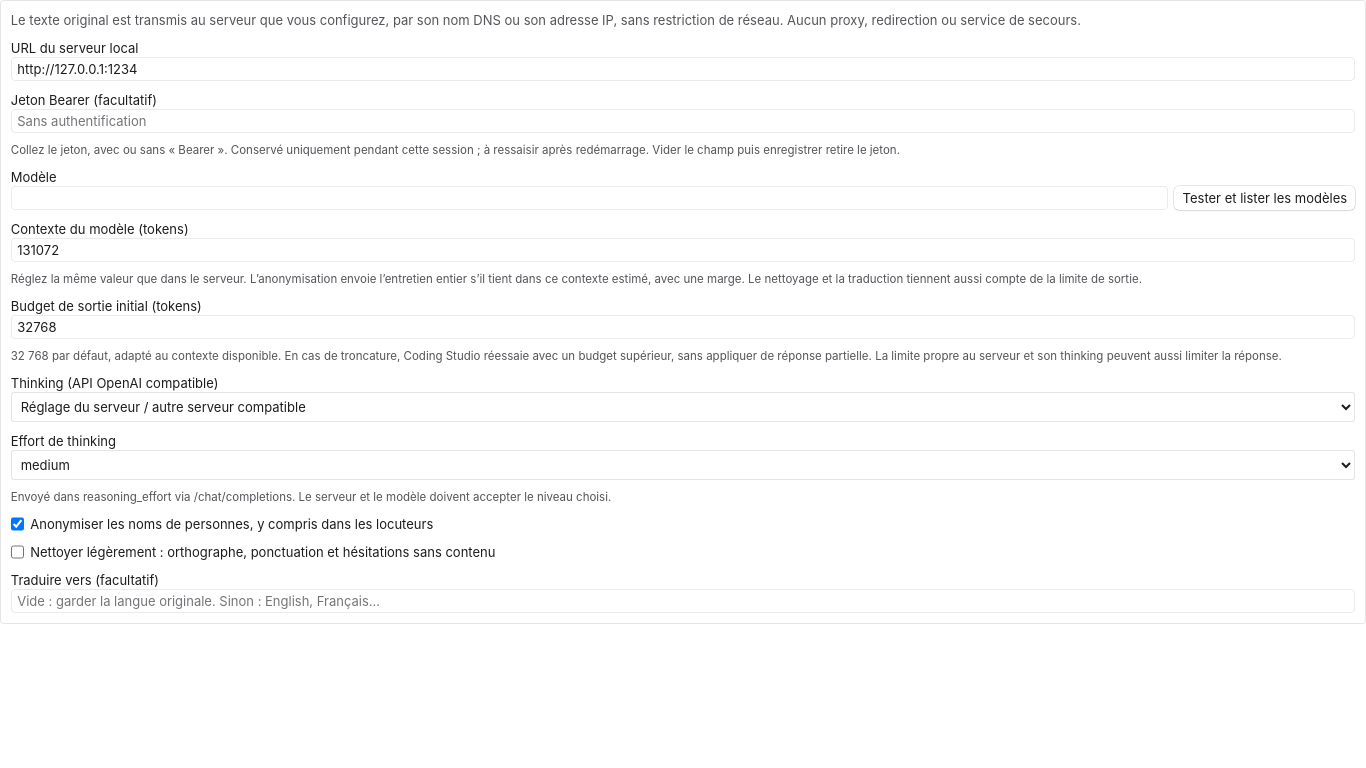
it: discovers the local model without sending a transcript
Click the button "Tester et lister les modèles": (1265, 198) [1174,186,1355,210]
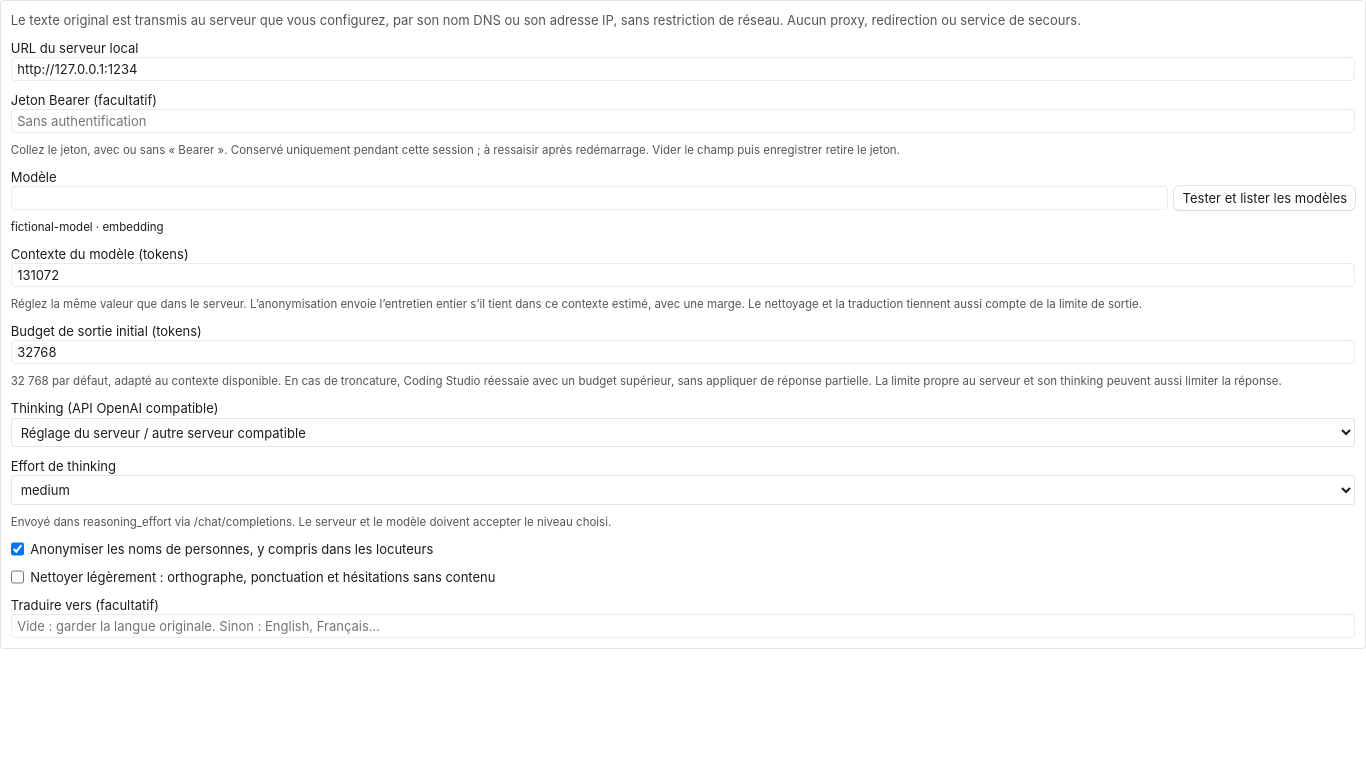
Expected: the text "fictional-model · embedding" is shown, [11,220,164,234]
